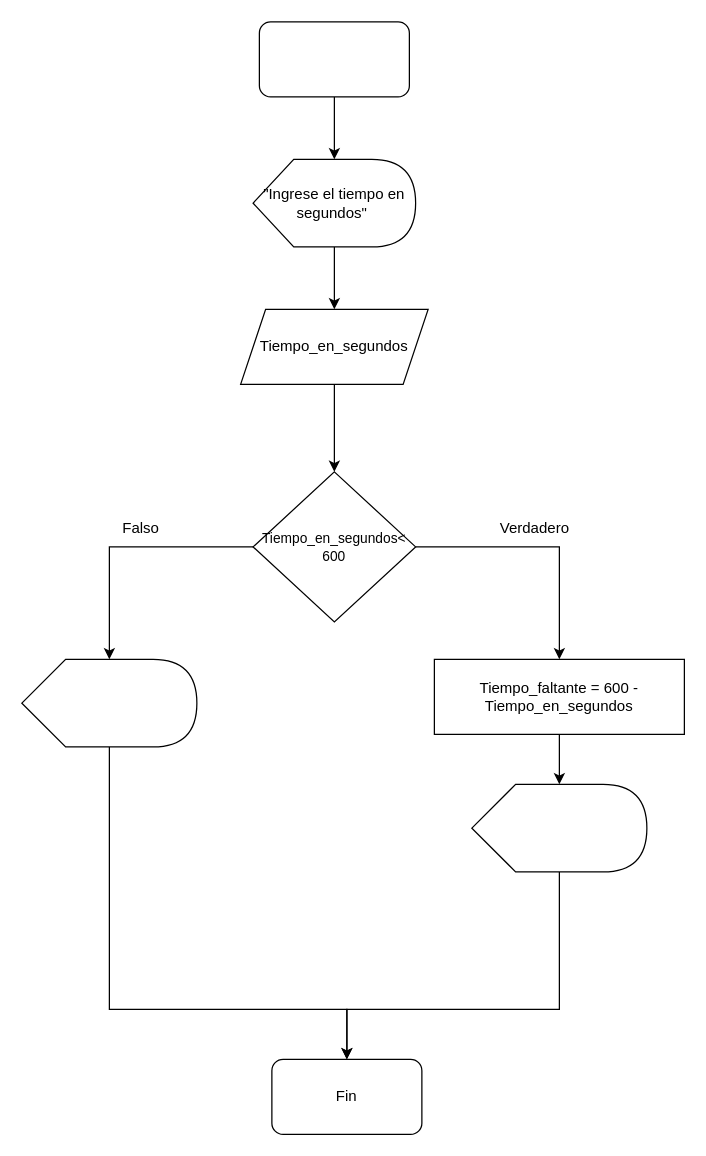
Some shapes in this 706 by 1156 pixel diagram are drawn without their labels. Each missing label, with the centre of its shape:
Inicio: point 333,59
Tiempo_en_segundos " --> Mayor": point 109,702
Tiempo_en_segundos "-->" Tiempo_faltante: point 559,827
